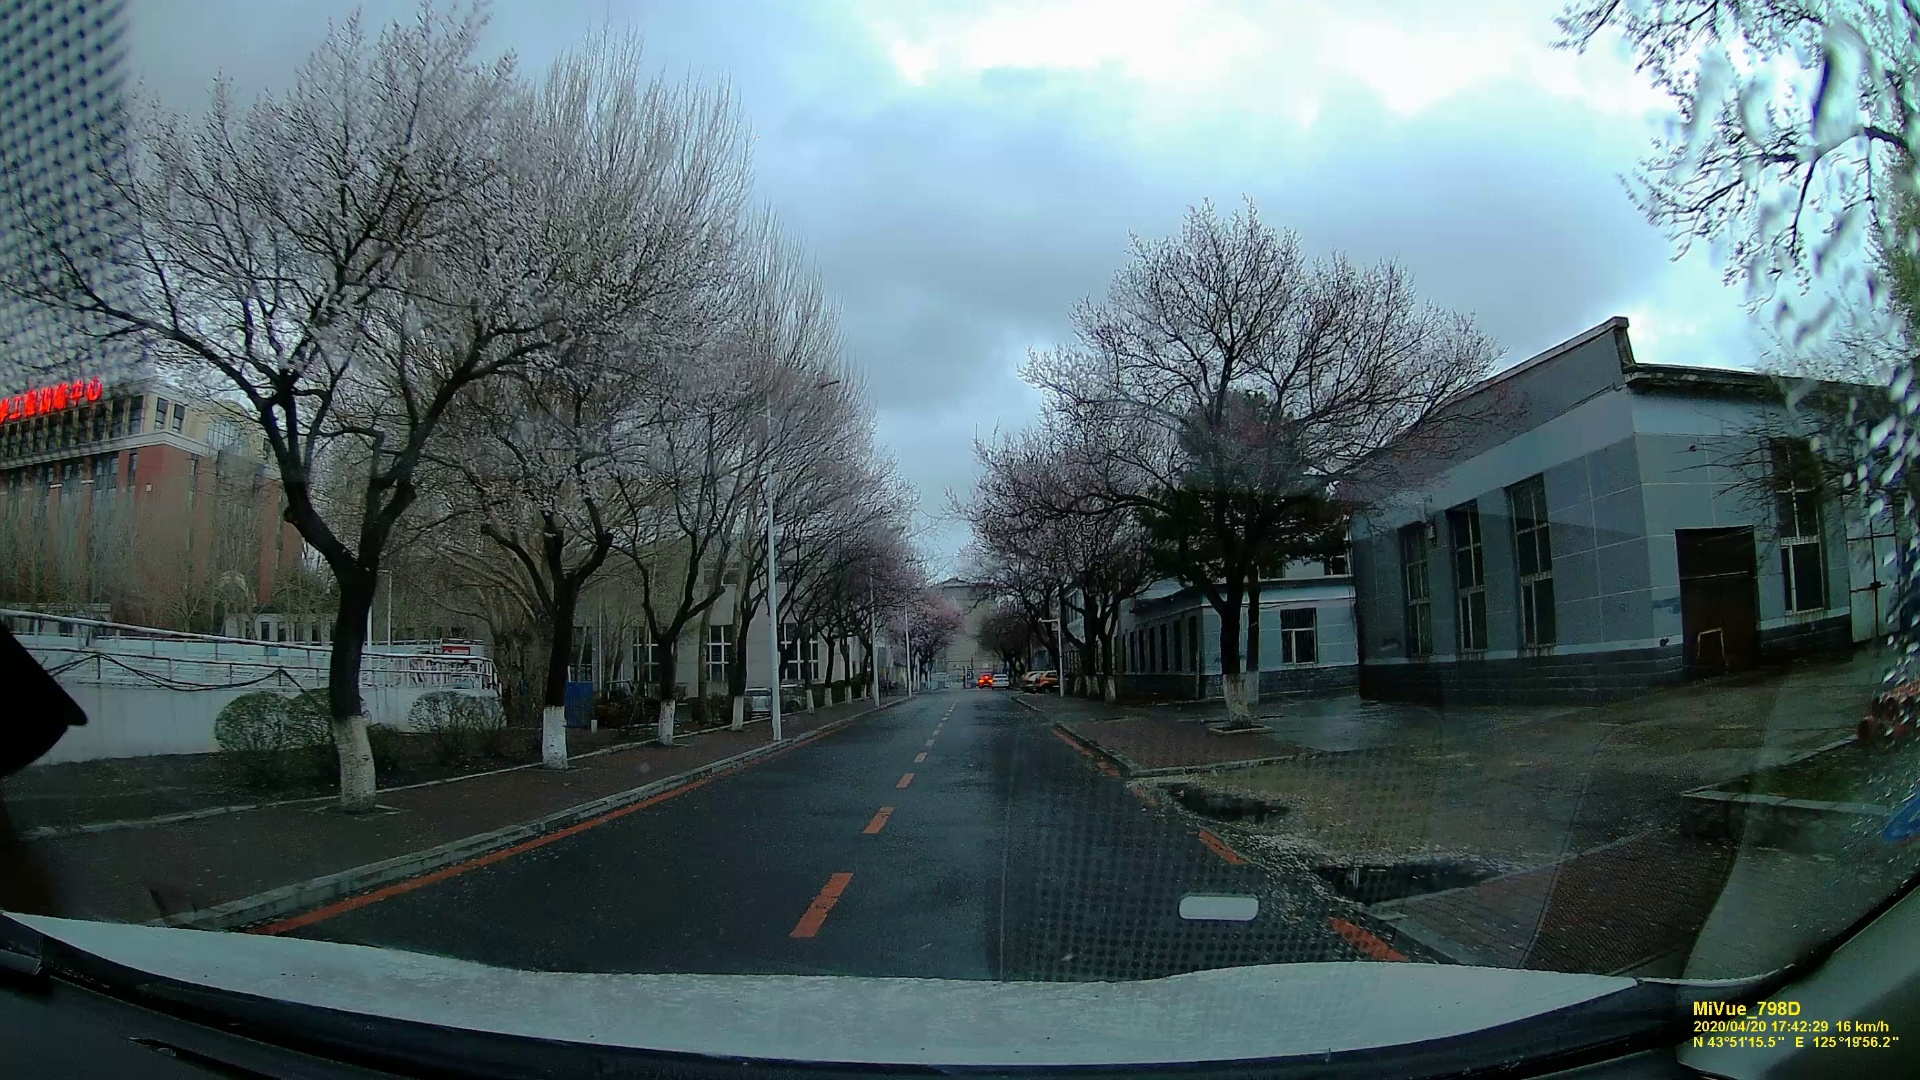vehicle: (1025, 669, 1058, 698), (977, 674, 1005, 688)
